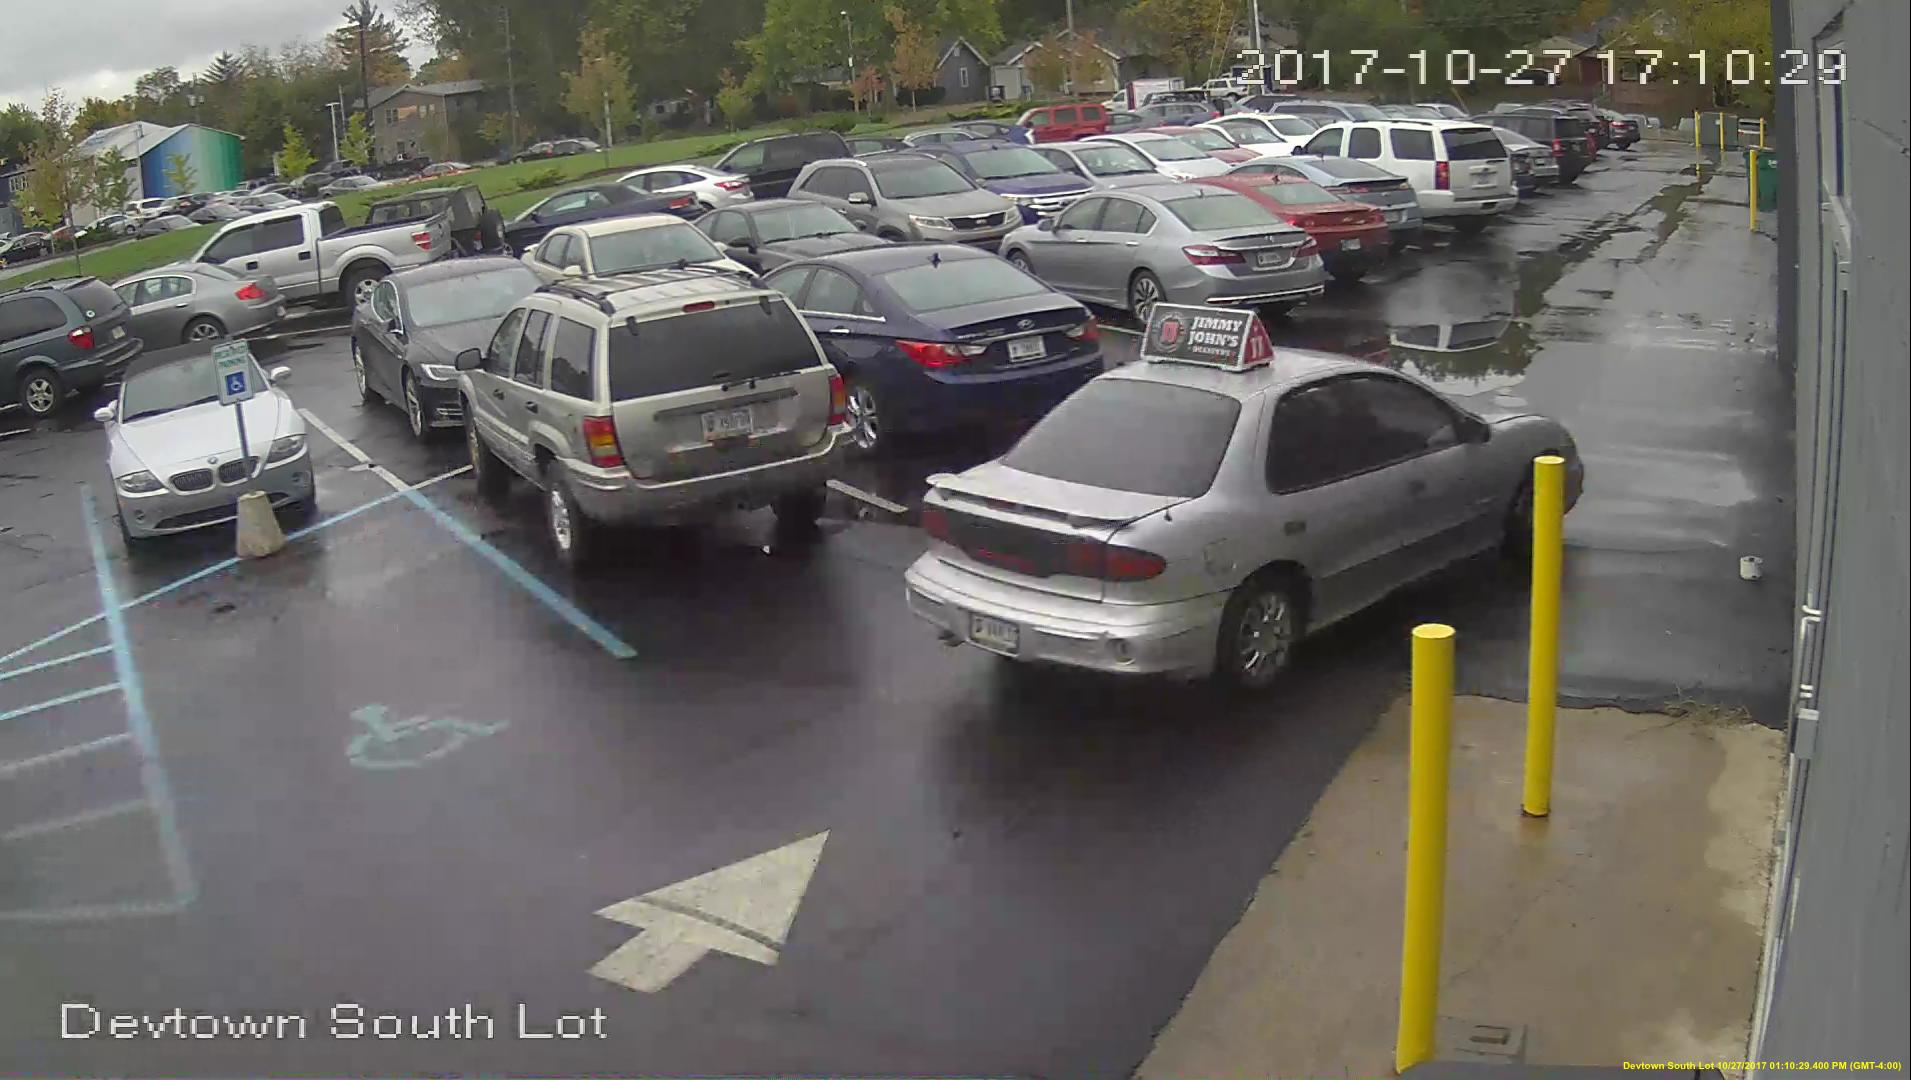jimmy_johns: (1139, 298, 1278, 369)
